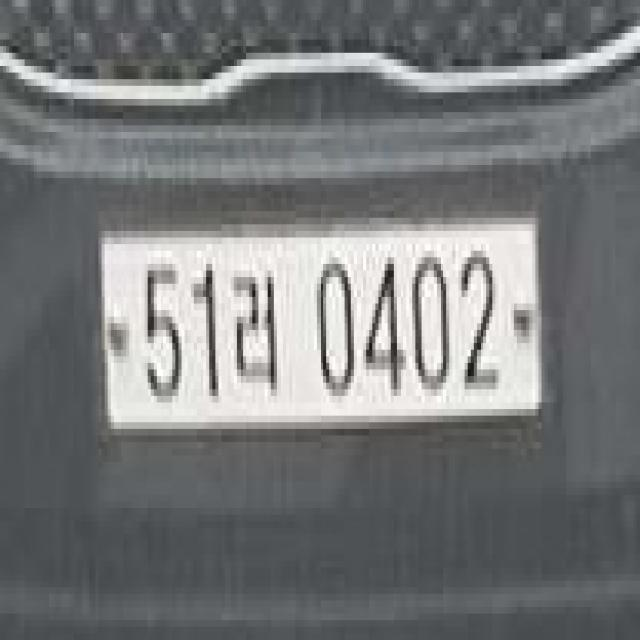0: (312, 245, 361, 392), (412, 246, 454, 404)
1: (188, 252, 227, 416)
2: (458, 249, 504, 397)
4: (366, 249, 408, 414)
5: (142, 252, 186, 416)
leo: (232, 257, 282, 405)
license_plate: (92, 193, 550, 447)
